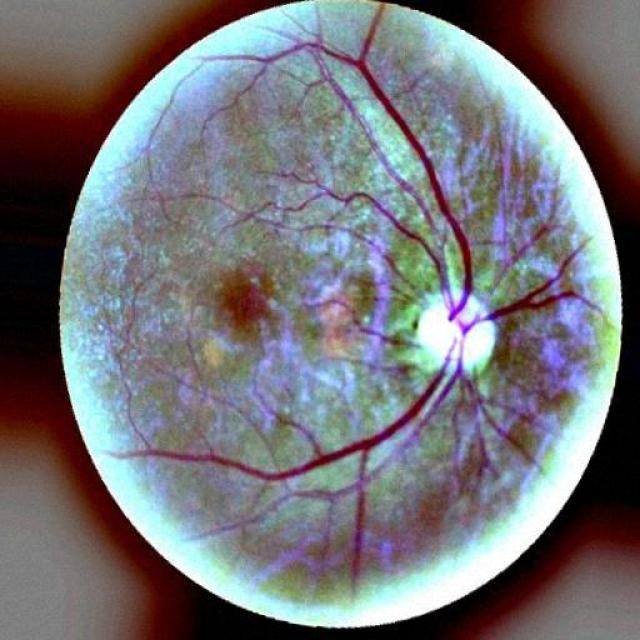Macula: (205, 251, 280, 348)
Nerves: (300, 37, 590, 336), (125, 336, 465, 483), (310, 297, 418, 350)
Optic Disk: (395, 286, 506, 395)
